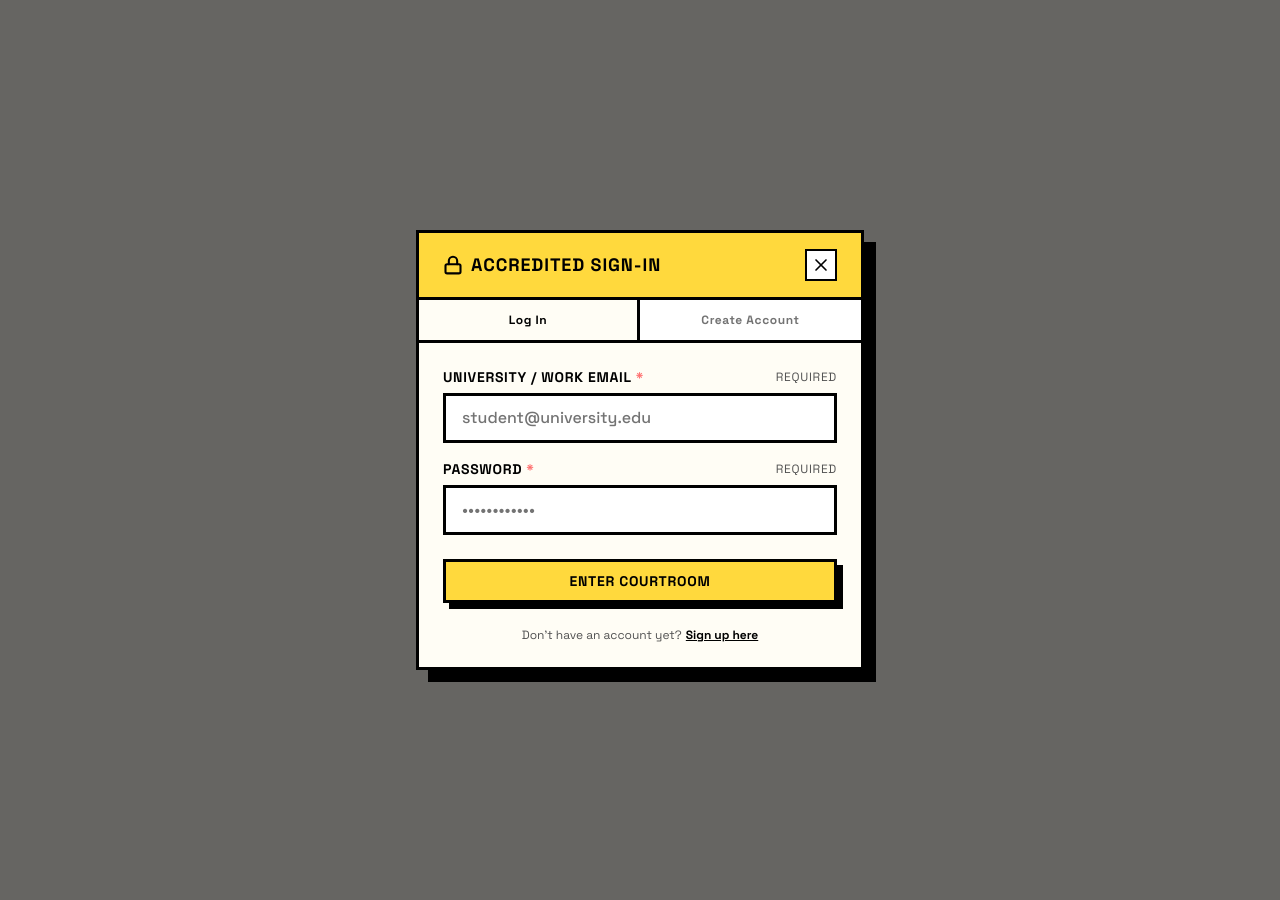
Test: Phase 2: Authentication and Teams UI Components › <AuthModal /> › switches to create account tab and shows display name field
Click the button "Create Account".
click(750, 320)  # box left=640, top=300, right=861, bottom=340
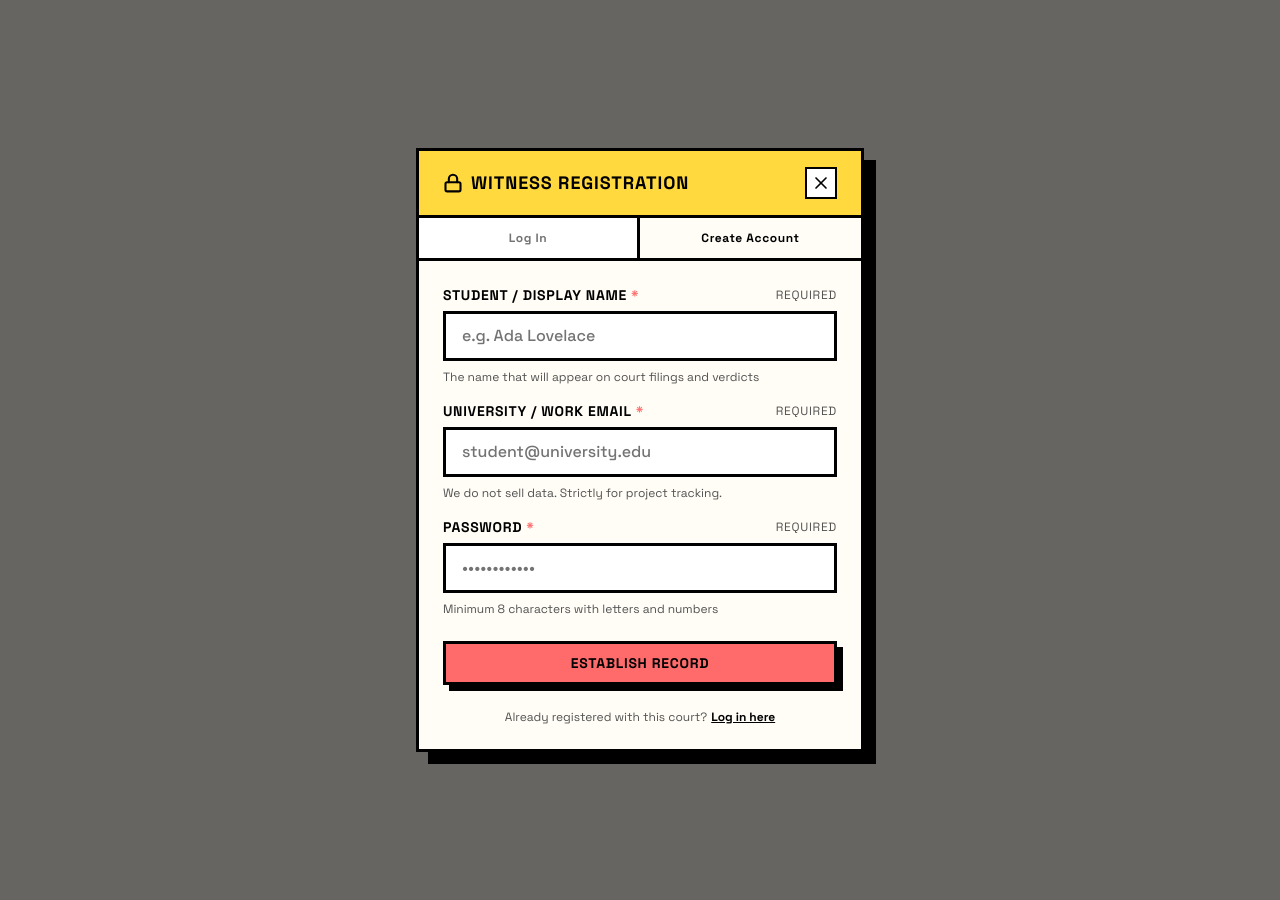
Now the heading "Witness Registration" is shown, box left=471, top=169, right=689, bottom=197
Now the field labelled "Student / Display Name* Required" is shown, box left=443, top=311, right=837, bottom=361
